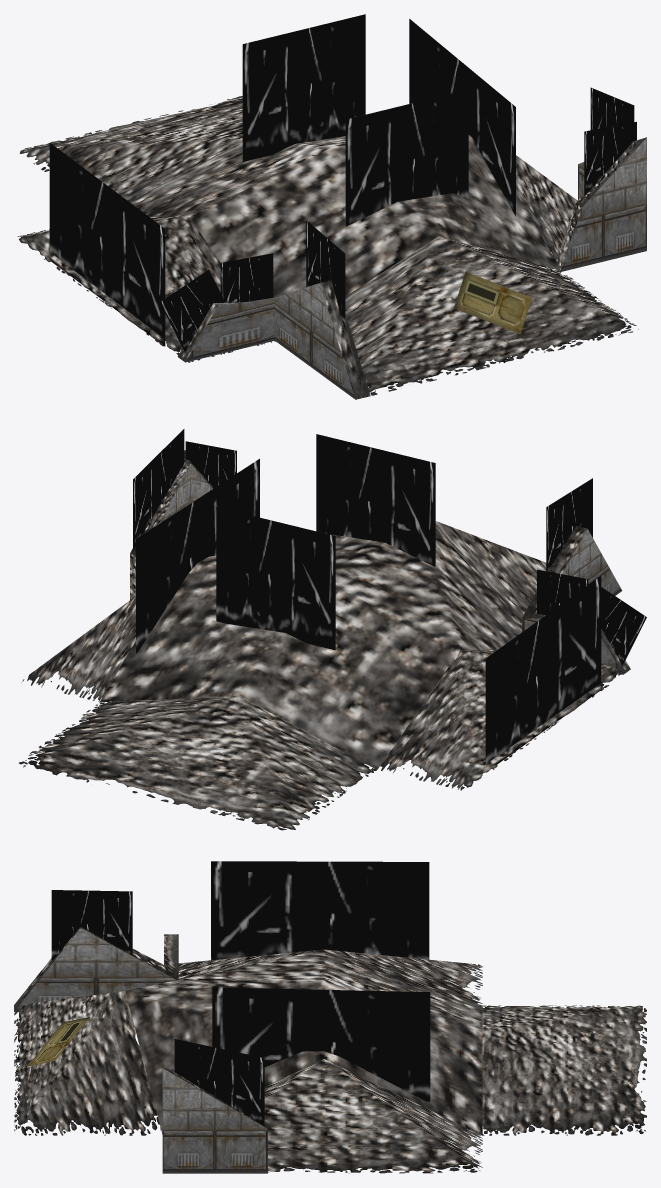
File: s_admin_entry_dam.glb
The picture shows the model from 3 angles, top to bottom: view 1: azimuth 30°, elevation 25°; view 2: azimuth 150°, elevation 25°; view 3: azimuth 270°, elevation 25°; orthographic projection. The views are drawn at different scales.
Parts seen in each view (by area): view 1: Plane01; view 2: Plane01; view 3: Plane01.
Part boxes in pixels (<box>): Plane01: <box>17,14,646,399</box>; Plane01: <box>19,429,646,830</box>; Plane01: <box>14,861,646,1173</box>.
Bounding box in the file's own units: 22.47 × 8.37 × 27.51.
Materials: 5 (5 with a texture image).
